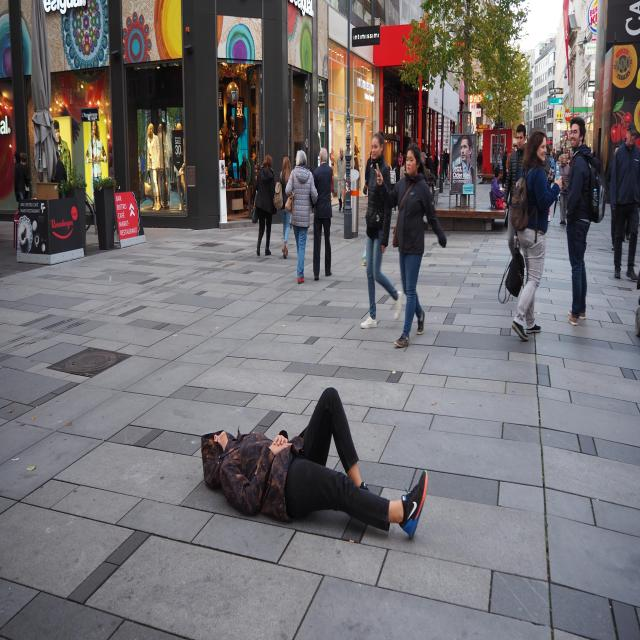fall: (201, 387, 429, 538)
nonfall: (391, 144, 446, 348), (511, 135, 561, 344), (566, 118, 606, 327), (360, 130, 402, 329), (611, 123, 640, 280), (286, 151, 318, 283), (504, 124, 526, 257), (313, 147, 333, 279), (255, 155, 274, 256), (278, 156, 292, 258), (558, 153, 571, 224), (492, 167, 509, 209), (337, 148, 346, 211), (14, 153, 25, 199), (20, 153, 30, 200), (388, 157, 399, 186), (502, 146, 508, 188), (478, 149, 482, 178), (445, 148, 448, 178), (398, 151, 402, 171)
